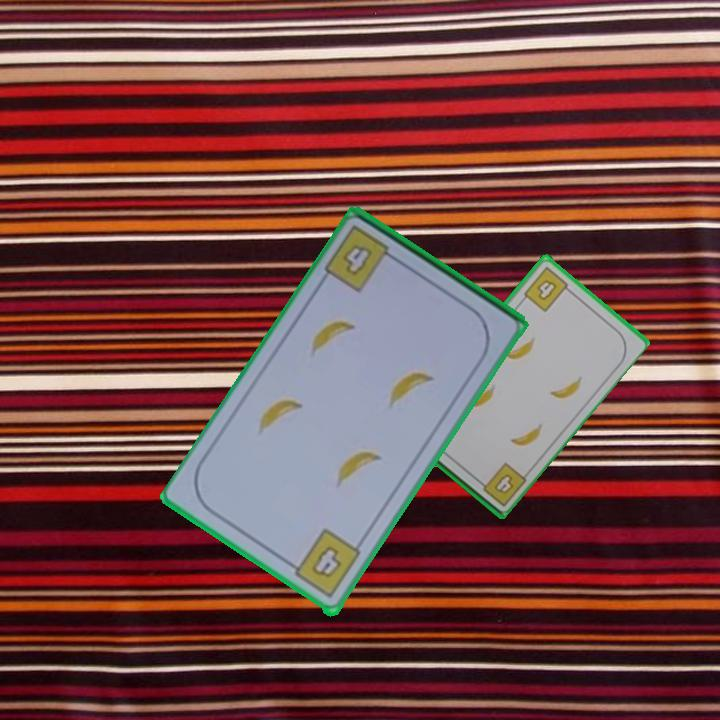4b: (284, 526, 364, 602), (520, 263, 575, 315), (473, 459, 529, 509), (339, 241, 376, 279)
